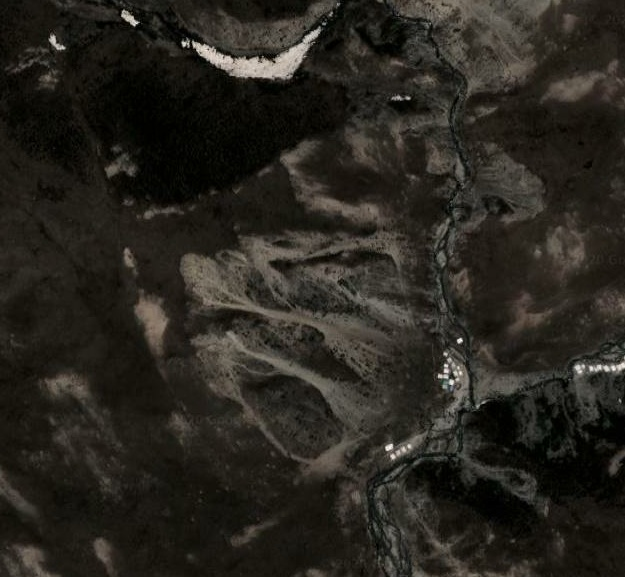slope: (175, 12, 336, 86)
